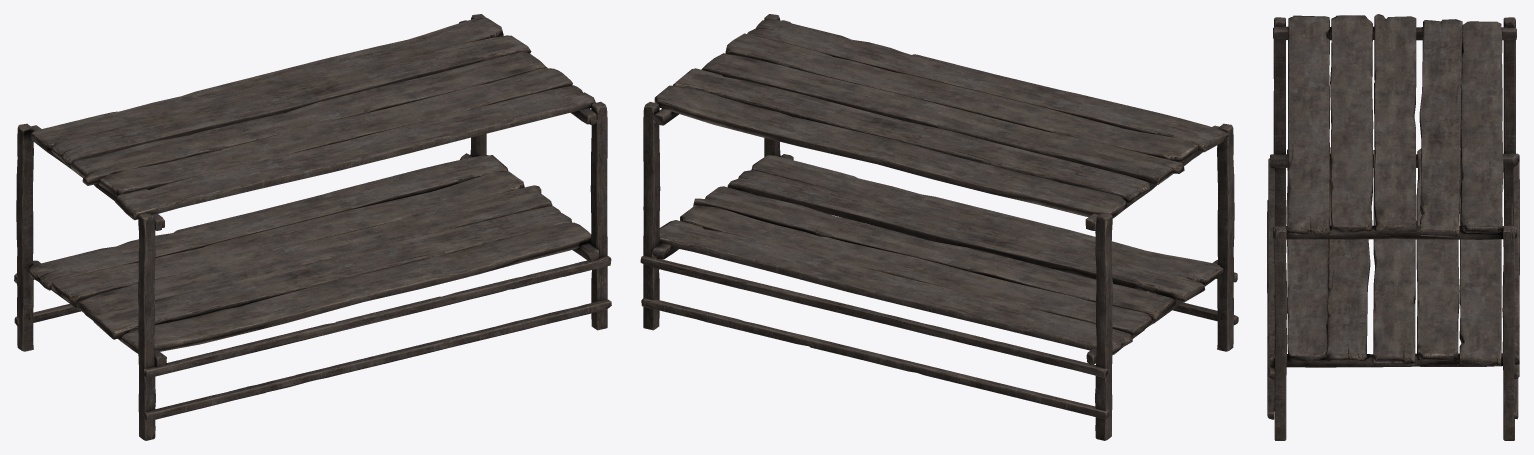
File: SM_Desk.fbx
3 views of the same model, side by side, from view 1: azimuth 30°, elevation 25°; view 2: azimuth 150°, elevation 25°; view 3: azimuth 270°, elevation 25° (orthographic). The views are drawn at different scales.
Visible parts, largest first — view 1: SM_Desk_LOD0; view 2: SM_Desk_LOD0; view 3: SM_Desk_LOD0.
Part boxes in pixels (bbox=[...]): SM_Desk_LOD0: bbox=[14, 14, 611, 440]; SM_Desk_LOD0: bbox=[640, 14, 1238, 440]; SM_Desk_LOD0: bbox=[1267, 14, 1519, 440].
Bounding box in the file's own units: 211 × 104 × 97.18.
